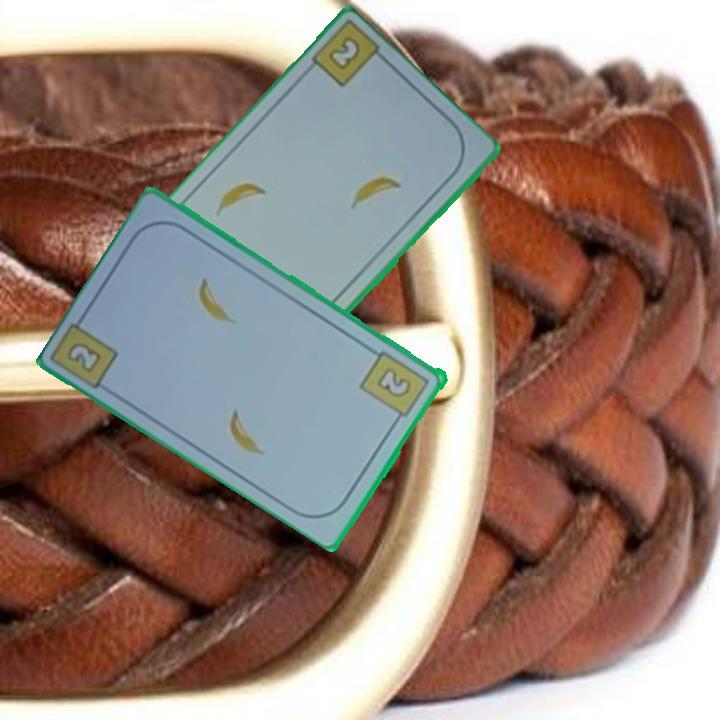2b: (357, 347, 433, 427), (324, 33, 364, 74), (63, 338, 105, 376)
